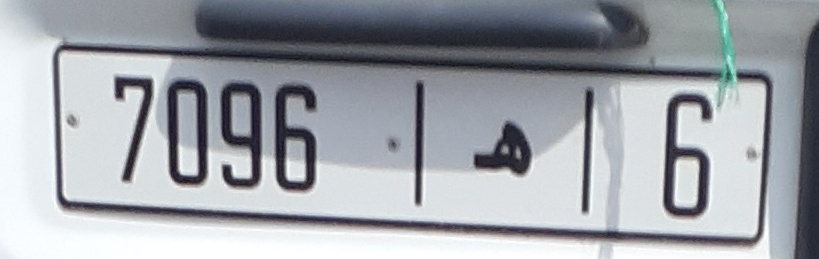0: (161, 75, 213, 191)
6: (651, 86, 726, 229), (271, 79, 325, 195)
7: (109, 65, 157, 194)
9: (216, 76, 266, 198)
h: (461, 109, 552, 179)
